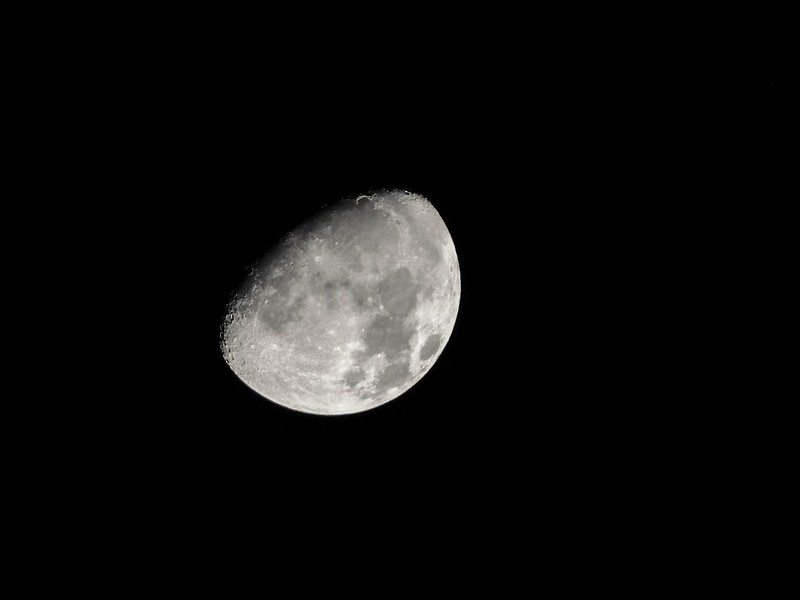crater: (367, 261, 427, 324), (417, 330, 442, 363), (440, 259, 458, 284), (395, 188, 417, 207), (310, 249, 326, 271), (248, 337, 263, 357), (235, 356, 253, 371), (285, 259, 300, 275), (373, 348, 387, 364), (391, 216, 404, 230), (262, 298, 274, 310), (352, 241, 363, 252), (299, 261, 308, 270)
